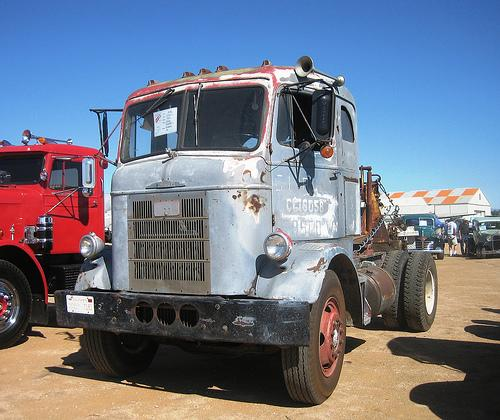truck: (54, 55, 443, 406), (0, 129, 119, 349), (395, 209, 447, 260)
